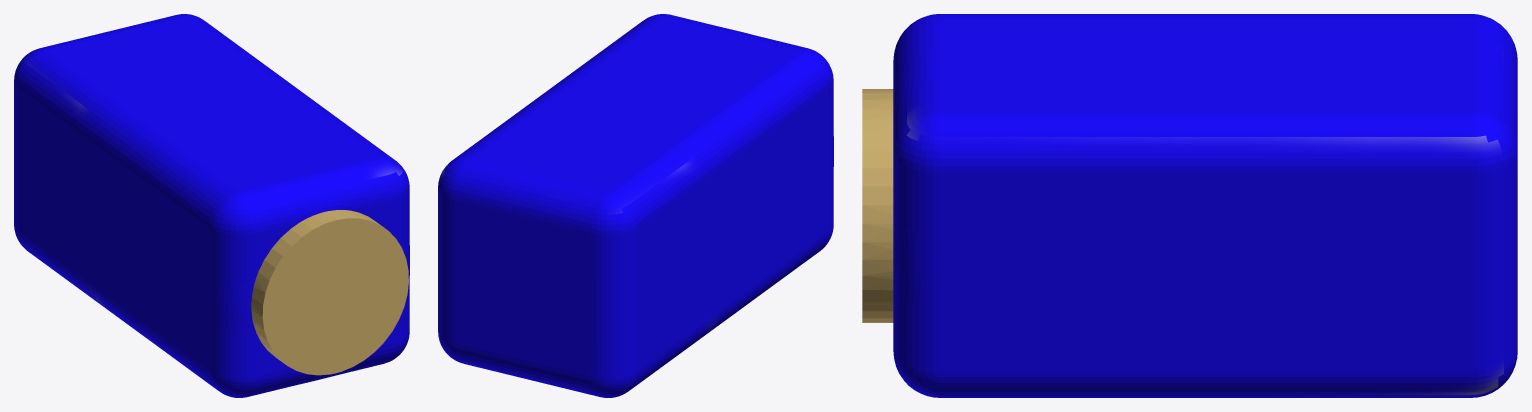
File: leg1.dae
3 views of the same model, side by side, from view 1: azimuth 30°, elevation 25°; view 2: azimuth 150°, elevation 25°; view 3: azimuth 270°, elevation 25° (orthographic). The views are drawn at different scales.
Visible parts, largest first — view 1: Leg1; view 2: Leg1; view 3: Leg1.
Boxes of the visible parts, x1,y1,x2,y2 form: Leg1: [14, 14, 409, 397]; Leg1: [438, 14, 833, 397]; Leg1: [862, 14, 1517, 397].
Size of the model in its own units: 0.2 by 0.42 by 0.2.
Materials: 1 (1 with a texture image).
